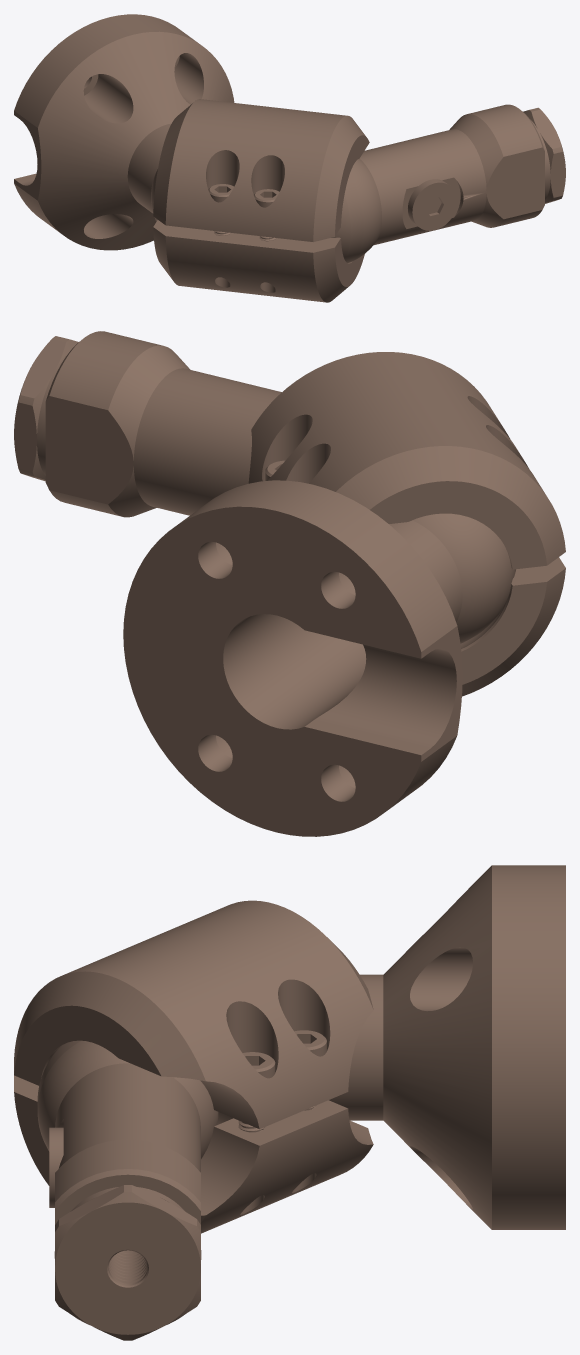
The model's file is tool_vacarm_v1.glb.
The picture shows the model from 3 angles, top to bottom: view 1: azimuth 30°, elevation 25°; view 2: azimuth 150°, elevation 25°; view 3: azimuth 270°, elevation 25°; orthographic projection. The views are drawn at different scales.
Parts seen in each view (by area): view 1: Tool_VacuumArm_3136N511; view 2: Tool_VacuumArm_3136N511; view 3: Tool_VacuumArm_3136N511.
Boxes of the visible parts, bbox=[...] form: Tool_VacuumArm_3136N511: bbox=[14, 14, 565, 302]; Tool_VacuumArm_3136N511: bbox=[14, 331, 565, 836]; Tool_VacuumArm_3136N511: bbox=[14, 865, 565, 1340].
Size of the model in its own units: 0.1208 by 0.0635 by 0.096.
